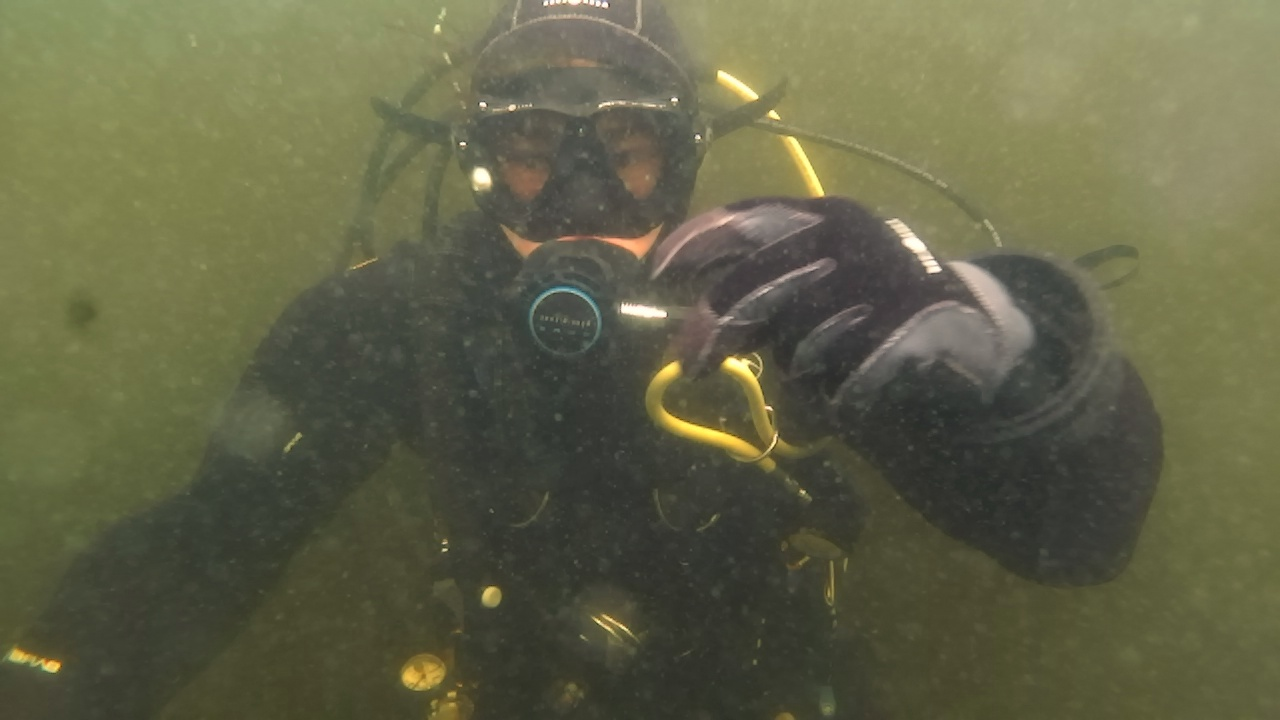Diver: (6, 2, 1176, 718)
Hand: (648, 188, 1032, 456)
Head: (462, 10, 678, 332)
